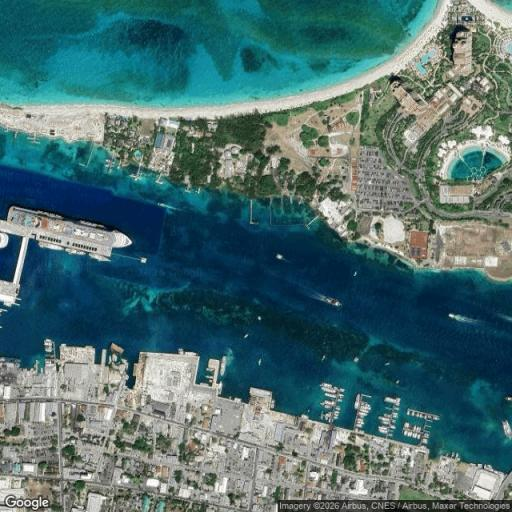ship: (7, 204, 132, 248), (441, 308, 484, 327), (155, 202, 183, 213), (38, 241, 64, 252), (89, 253, 113, 263), (65, 247, 87, 257), (384, 394, 402, 405), (178, 349, 200, 357), (324, 297, 341, 307), (503, 420, 511, 438), (220, 356, 227, 376), (319, 387, 339, 394), (351, 270, 366, 278), (376, 428, 390, 436), (355, 394, 361, 410), (382, 358, 390, 370), (360, 404, 373, 411), (321, 382, 335, 388), (324, 398, 336, 405), (243, 332, 253, 340), (394, 378, 402, 388), (324, 393, 337, 399), (218, 380, 223, 395), (359, 407, 371, 413), (256, 358, 263, 367), (321, 354, 327, 364), (382, 412, 392, 418), (379, 415, 389, 421), (378, 425, 390, 430), (195, 187, 201, 197), (411, 423, 418, 431), (356, 356, 362, 365), (324, 405, 334, 410), (204, 374, 212, 380), (44, 348, 53, 353), (359, 411, 368, 416), (276, 253, 283, 259), (42, 342, 52, 346), (204, 367, 214, 371), (357, 423, 365, 428), (380, 420, 390, 424), (414, 432, 419, 440), (505, 395, 511, 401), (357, 417, 366, 421), (357, 421, 366, 425), (415, 412, 421, 418), (404, 430, 410, 436), (333, 415, 340, 420), (408, 431, 413, 438), (417, 432, 421, 440), (406, 410, 411, 416), (415, 426, 420, 431), (335, 410, 341, 414), (411, 411, 415, 417), (419, 413, 423, 419), (412, 430, 415, 438), (336, 406, 340, 411), (334, 413, 339, 416)
